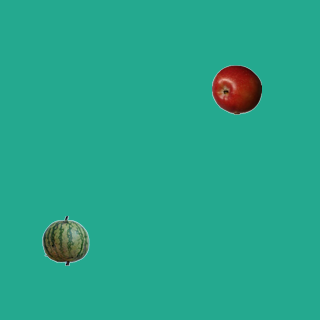Apple Braeburn: (211, 64, 261, 114)
Watermelon: (40, 215, 90, 265)
